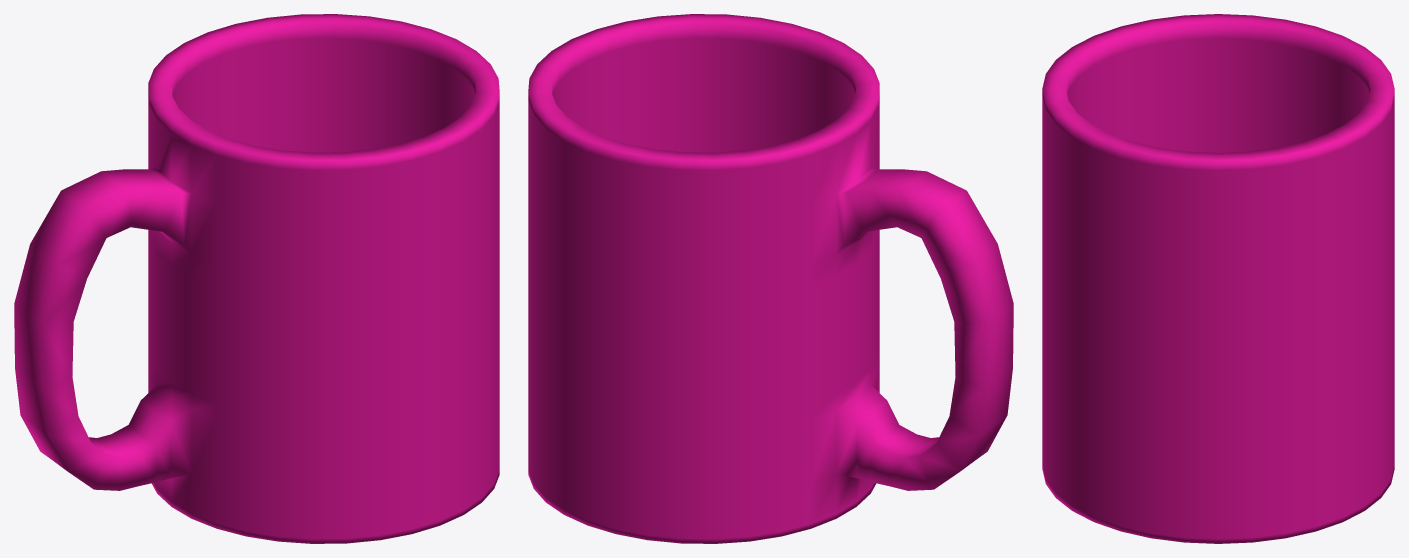
3 views of the same model, side by side, from view 1: azimuth 30°, elevation 25°; view 2: azimuth 150°, elevation 25°; view 3: azimuth 270°, elevation 25° (orthographic).
Visible parts, largest first — view 1: Cylinder; view 2: Cylinder; view 3: Cylinder.
Boxes of the visible parts, box(x1,y1,x2,y2) form: Cylinder: box(14, 14, 499, 543); Cylinder: box(528, 14, 1013, 543); Cylinder: box(1042, 14, 1394, 543).
Size of the model in its own units: 0.1174 by 0.08 by 0.0955.
